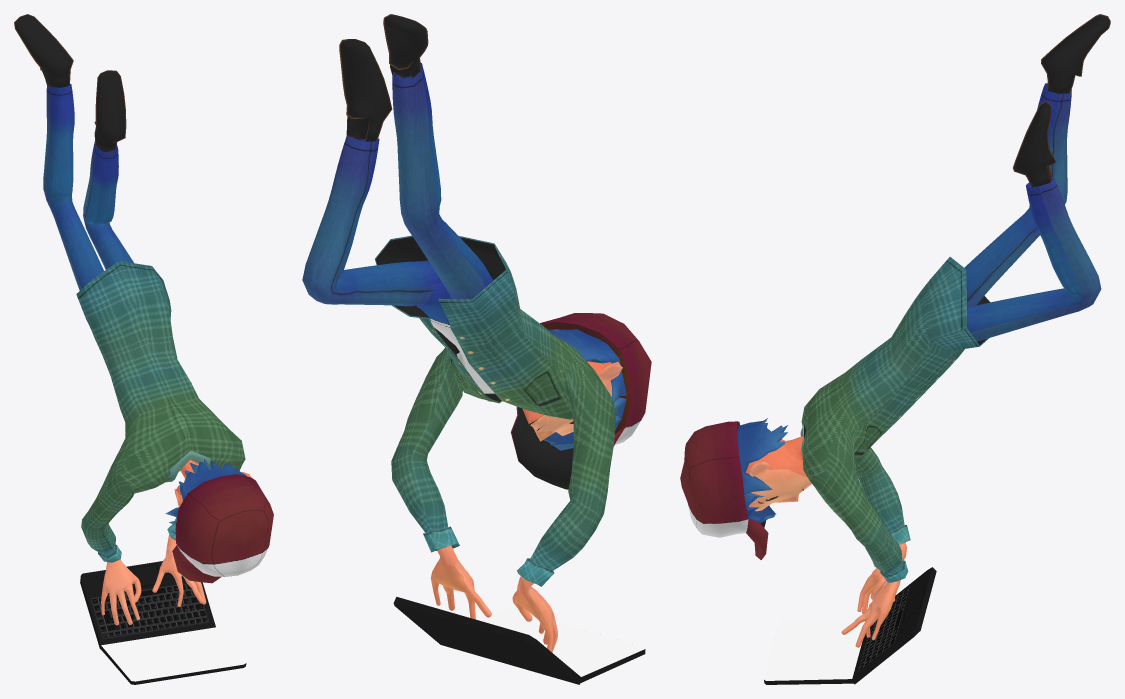
The model's file is rivaiamin.glb.
3 views of the same model, side by side, from view 1: azimuth 30°, elevation 25°; view 2: azimuth 150°, elevation 25°; view 3: azimuth 270°, elevation 25° (orthographic). The views are drawn at different scales.
Visible parts, largest first — view 1: kemeja, me.002, me, Cube.005, hair; view 2: kemeja, me, me.002, Cube.005, hair; view 3: kemeja, me, me.002, Cube.005, hair.
Boxes of the visible parts, x1=… form: kemeja: x1=76, y1=261, x2=245, y2=562; me.002: x1=14, y1=14, x2=273, y2=583; me: x1=43, y1=83, x2=250, y2=625; Cube.005: x1=80, y1=561, x2=246, y2=684; hair: x1=165, y1=459, x2=246, y2=534; kemeja: x1=375, y1=235, x2=615, y2=586; me: x1=302, y1=63, x2=622, y2=652; me.002: x1=339, y1=14, x2=651, y2=489; Cube.005: x1=393, y1=596, x2=645, y2=684; hair: x1=536, y1=329, x2=626, y2=450; kemeja: x1=800, y1=257, x2=989, y2=582; me: x1=745, y1=83, x2=1101, y2=647; me.002: x1=680, y1=14, x2=1110, y2=559; Cube.005: x1=764, y1=567, x2=936, y2=684; hair: x1=737, y1=418, x2=787, y2=523.
Size of the model in its own units: 0.6148 by 2.21 by 1.37.
Materials: 5 (2 with a texture image).
